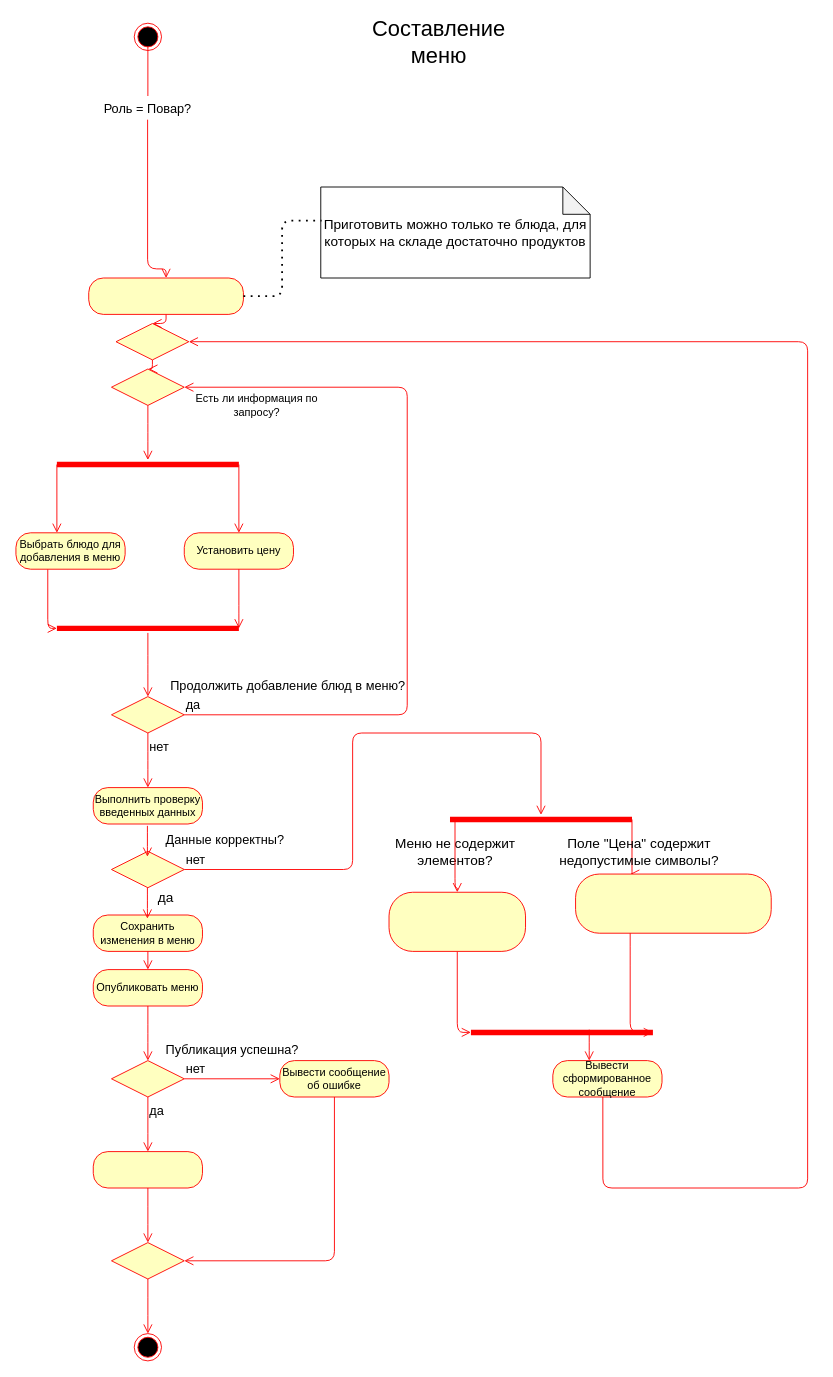
This 833x1377 diagram has some shape labels left out. The shapes that lost their labels are listed below. From the top down, each one's centre as x and y in pixels, then its label:
pixel 165 295: Запросить блюда, которые можно приготовить
pixel 457 921: Формировать сообщение "Попытка сохранения пустого меню
pixel 673 903: Формировать сообщение "Поле цена" содержит недопустимые символы
pixel 147 1169: Фиксация меню на день
